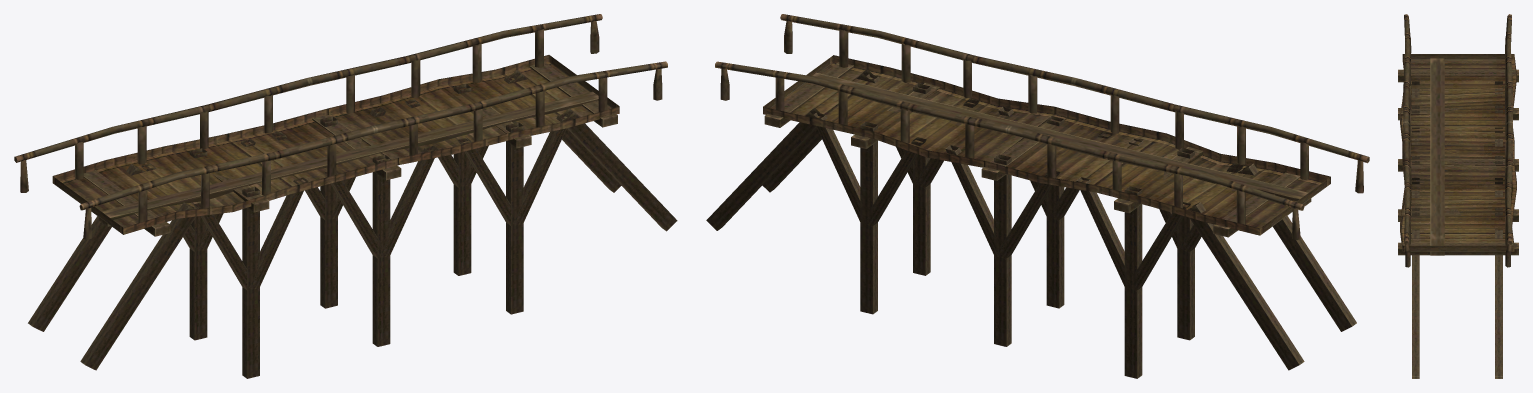
The picture shows the model from 3 angles, left to right: view 1: azimuth 30°, elevation 25°; view 2: azimuth 150°, elevation 25°; view 3: azimuth 270°, elevation 25°; orthographic projection. The views are drawn at different scales.
Visible parts, largest first — view 1: Object04; view 2: Object04; view 3: Object04.
Part boxes in pixels (box(x1,y1,x2,y2)): Object04: box(14, 14, 677, 378); Object04: box(706, 14, 1369, 378); Object04: box(1398, 14, 1518, 378).
Bounding box in the file's own units: 23.79 × 8.56 × 5.24.
